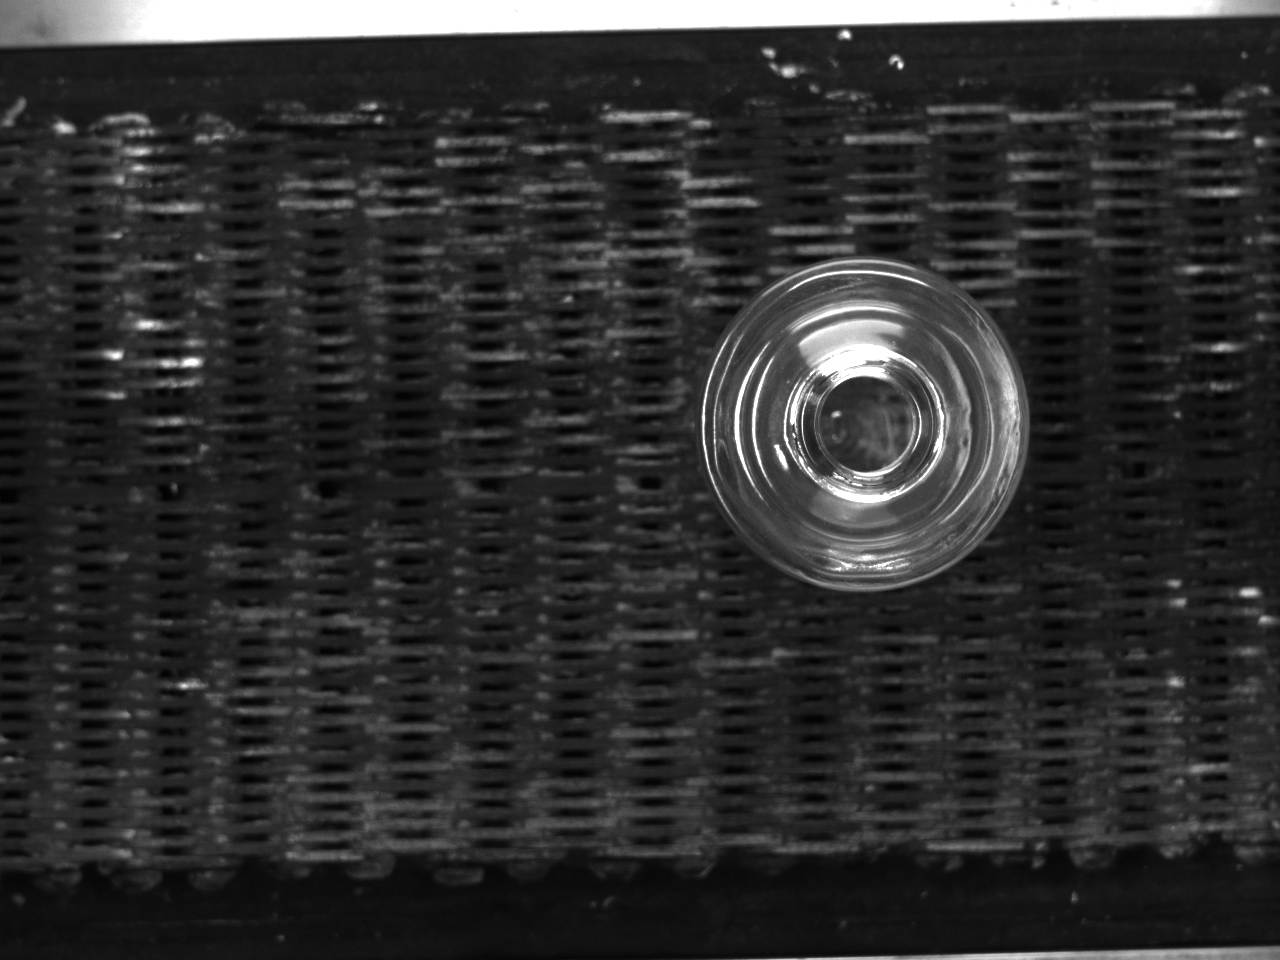bottleneck: (796, 346, 947, 503)
